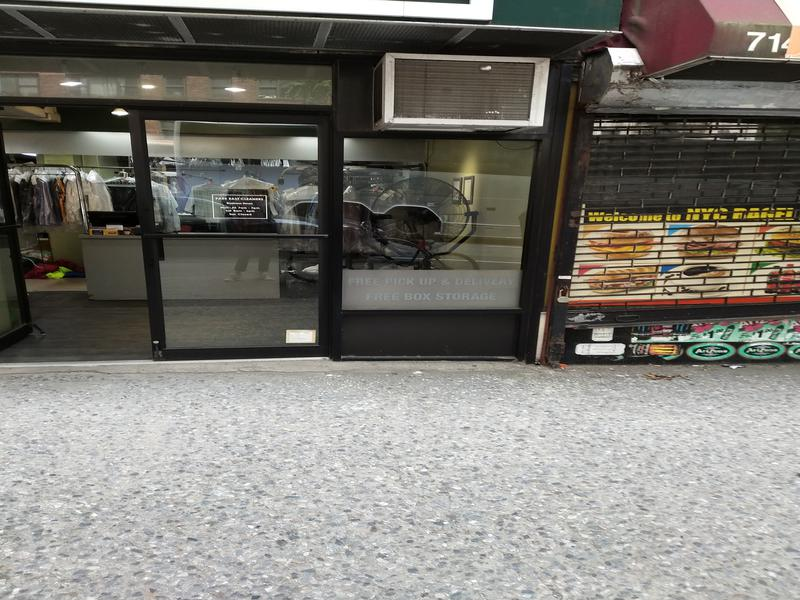door: (124, 96, 343, 366)
